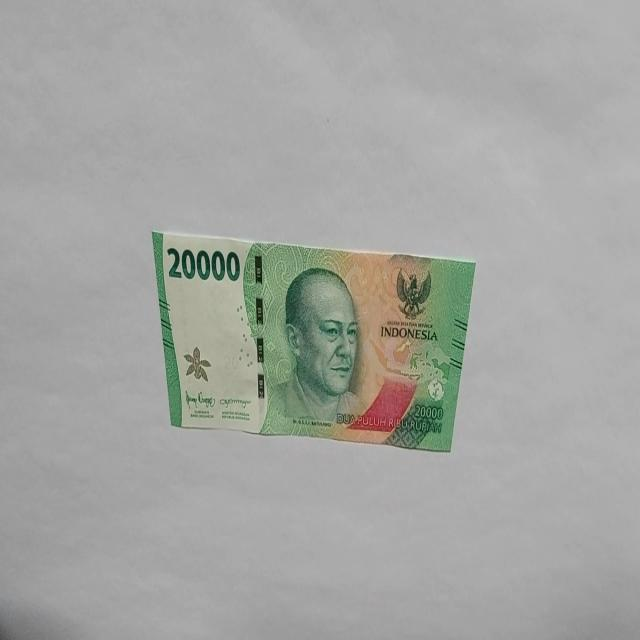dua puluh ribu rupiah: (150, 228, 477, 452), (268, 264, 366, 434)
